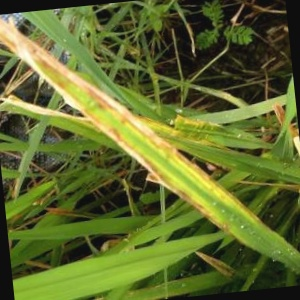Leaf_Blast: (121, 140, 183, 194)
